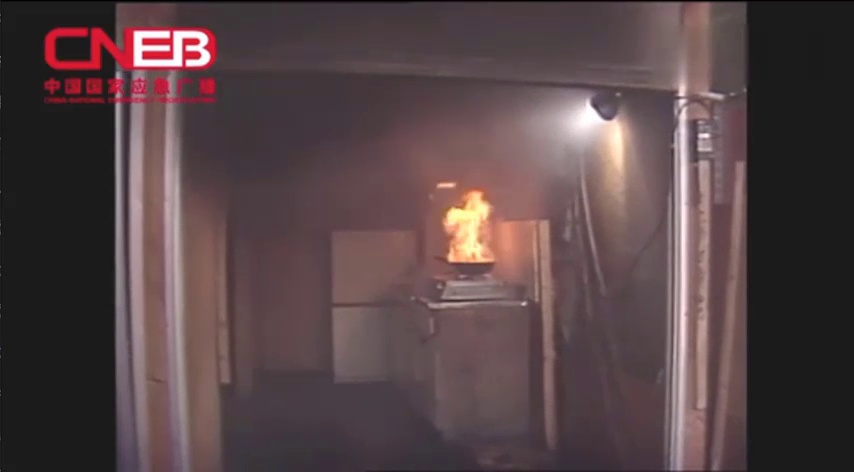fire: (424, 178, 504, 274)
